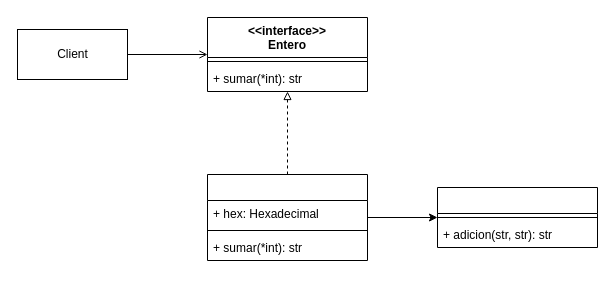
The diagram is 615 pixels wide and 281 high, and some of its shapes have lost their labels. Each missing label, with the box of its shape:
Hexadecimal: (436, 186, 598, 248)
HexadecimalToEntero: (206, 174, 368, 260)
